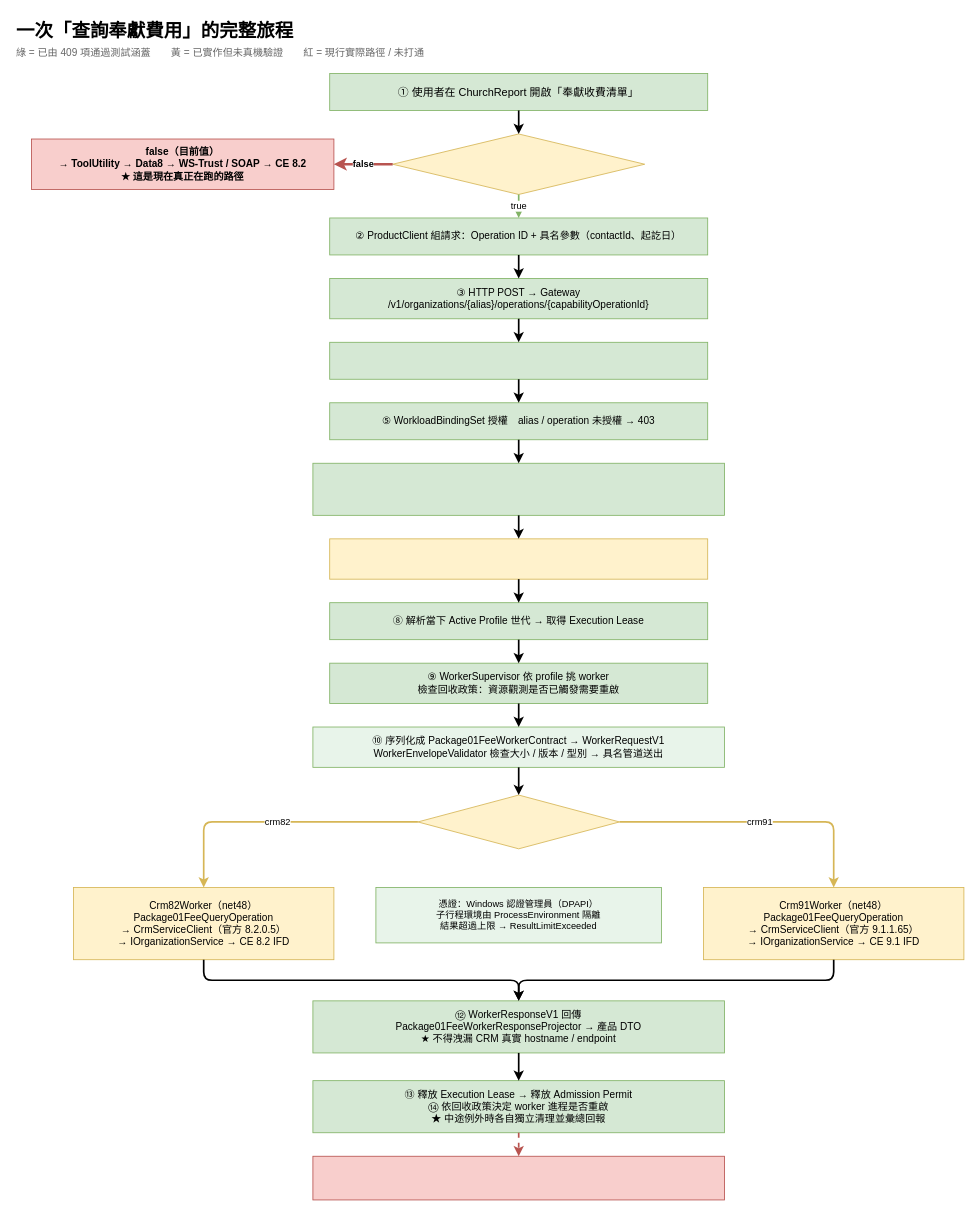
The diagram is 979 pixels wide and 1215 high, and some of its shapes have lost their labels. Here are the shapes that lost their labels. From the top down, the centre of each, then its label:
the point at 518,163: Package01FeeReadsEnabled ?
the point at 518,360: ④ Windows Negotiate 驗證 未驗證 → 401（在讀 body 之前）
the point at 518,488: ⑥ ControlPlane 容量准入 排隊 → 取得 Permit。佇列滿 / 超封包上限 / 逾期 → 拒絕 ★ 排隊期間不持有連線物件，舊世代可正常收斂
the point at 518,558: ⑦ 取得 Host Slot 租約（InMemory 或 SQL） ⚠ SQL 版 7 項 live 測試全部 SKIP
the point at 518,821: ⑪ 進程邊界
the point at 518,1177: ⚠ Soak 測試目前在這一段抓到問題：重複 Package01 + 回收之後，世代內 private bytes 呈現持續單調成長。
